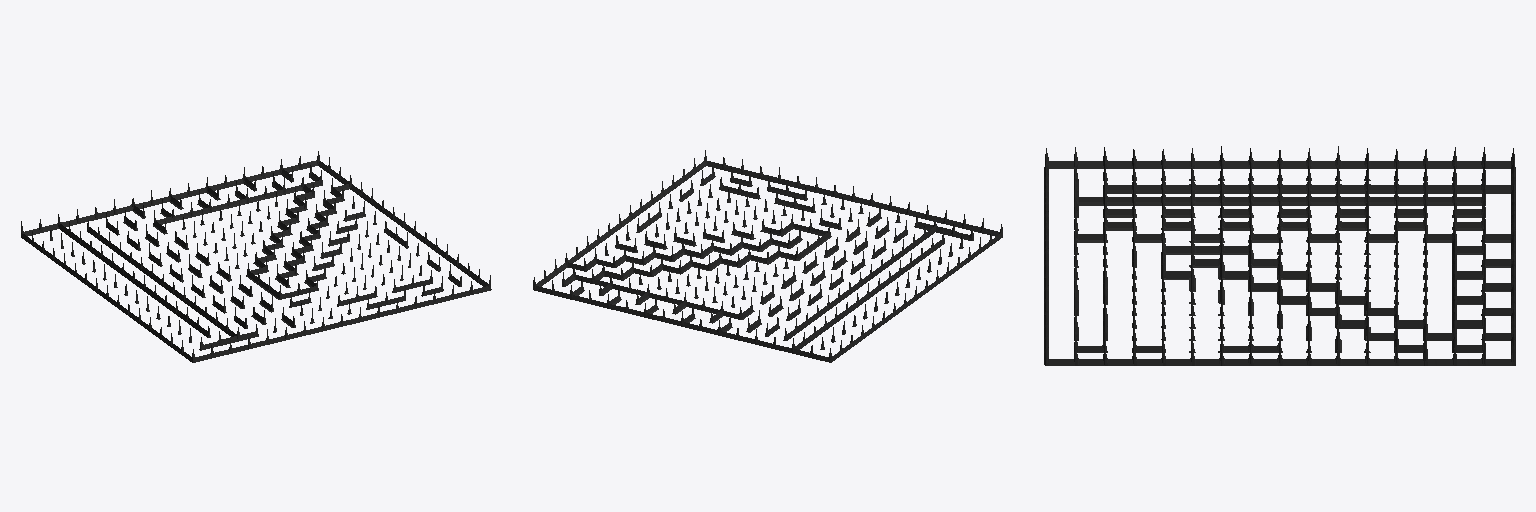
robot.urdf — training_env:
<?xml version="1.0"?> 
<robot name="training_env">

    <material name="black">
        <color rgba="0.2 0.2 0.2 0.95"/>
    </material>

    <link name="base_link">
        <visual>
            <origin xyz="0.0 0.0 0.05" rpy="0.0 0.0 0.0"/>
            <geometry>
                <mesh filename="meshes/training_env.obj" scale="0.02 0.02 0.01" />
            </geometry>
          <material name="black"/>
        </visual>

        <collision concave="yes" name="collision_0">
           <origin xyz="0.0 0.0 0.05" rpy="0.0 0.0 0.0"/>
            <geometry>
                <mesh filename="meshes/training_env.obj" scale="0.02 0.02 0.01" />
            </geometry>
        </collision>

        <inertial> 
            <mass value="0"/>
            <inertia ixx="0" ixy="0" ixz="0" iyy="0" iyz="0" izz="0"/>
        </inertial> 

    </link>
</robot>

--- Render facts (derived) ---
3 views of the same robot in one strip: view 1: azimuth 30°, elevation 25°; view 2: azimuth 150°, elevation 25°; view 3: azimuth 270°, elevation 25° (orthographic).
Model training_env with 1 links and 0 joints (none), rooted at base_link, posed every joint at zero.
Links seen in each view (by area): view 1: base_link; view 2: base_link; view 3: base_link.
Link boxes in pixels (box(x1,y1,x2,y2)): base_link: box(21, 151, 491, 362); base_link: box(533, 150, 1002, 362); base_link: box(1044, 146, 1515, 365).
Size in the robot's own frame: 2.01 by 2.01 by 0.1 metres.
1 mesh visuals loaded from 1 distinct referenced files (1 OBJ).